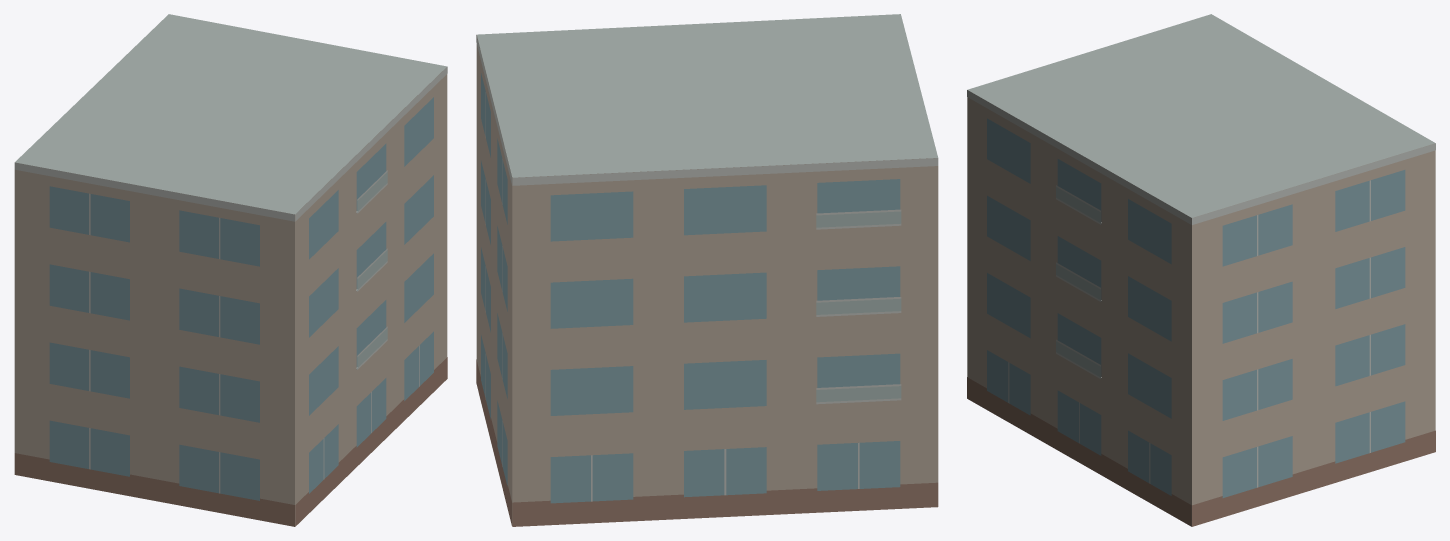
The model's file is survey-upis-32526496.glb.
The picture shows the model from 3 angles, left to right: view 1: azimuth 30°, elevation 25°; view 2: azimuth 150°, elevation 25°; view 3: azimuth 270°, elevation 25°; orthographic projection. The views are drawn at different scales.
Visible parts, largest first — view 1: survey-upis-32526496.tmp; view 2: survey-upis-32526496.tmp; view 3: survey-upis-32526496.tmp.
Boxes of the visible parts, x1,y1,x2,y2 form: survey-upis-32526496.tmp: (14, 14, 447, 526); survey-upis-32526496.tmp: (476, 14, 938, 526); survey-upis-32526496.tmp: (967, 14, 1435, 526).
Bounding box in the file's own units: 14.88 × 10.5 × 14.45.
